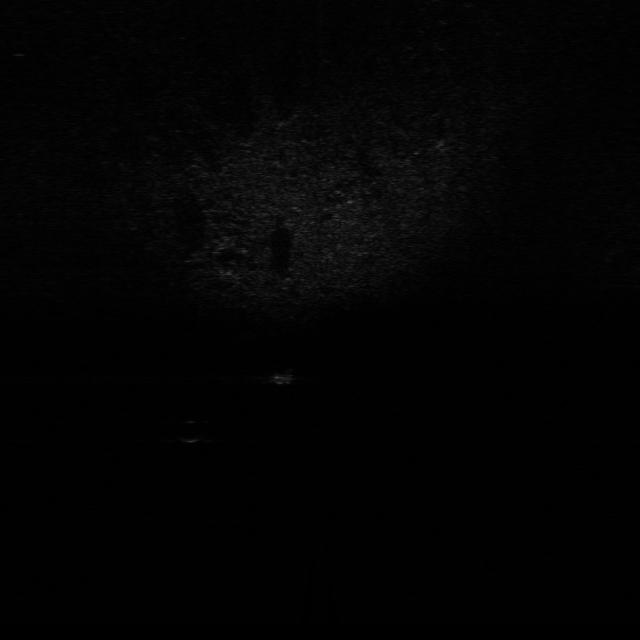ball: (172, 416, 212, 445)
cube: (270, 364, 298, 386)
